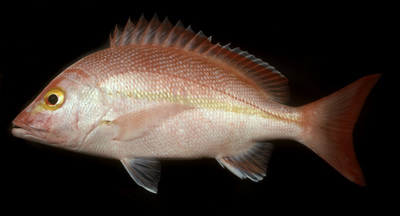fish: (11, 15, 381, 195)
